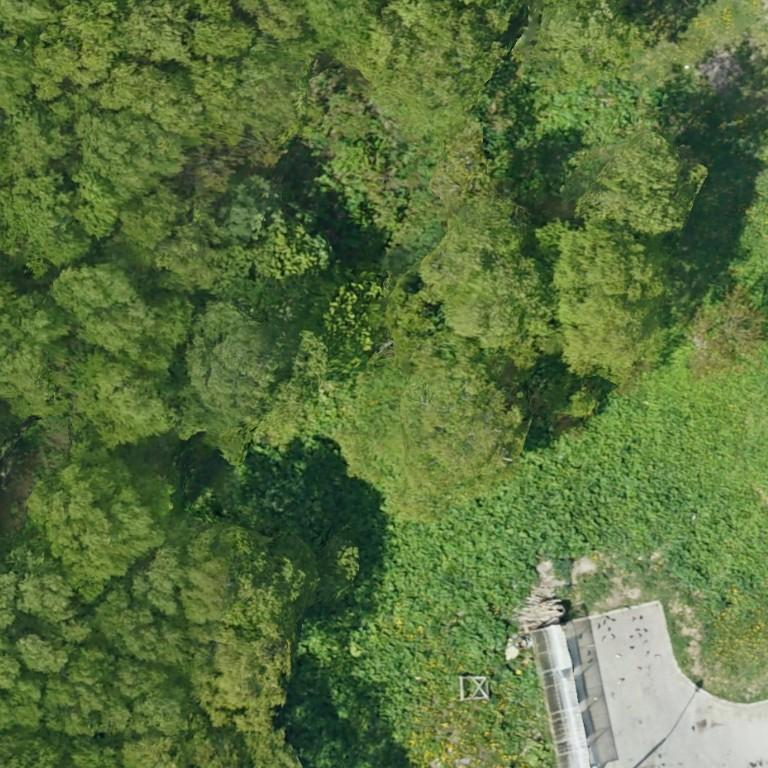hogweed: (291, 375, 767, 767)
